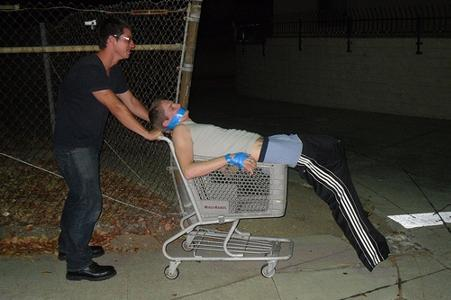person: (49, 19, 167, 283)
